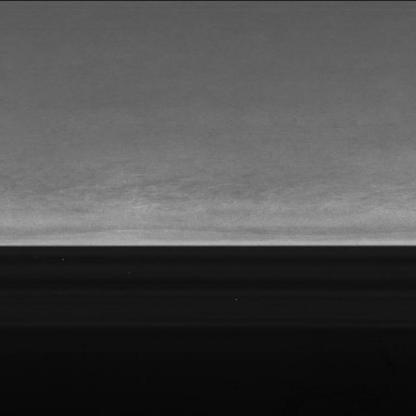silk_spot: (82, 164, 308, 214)
